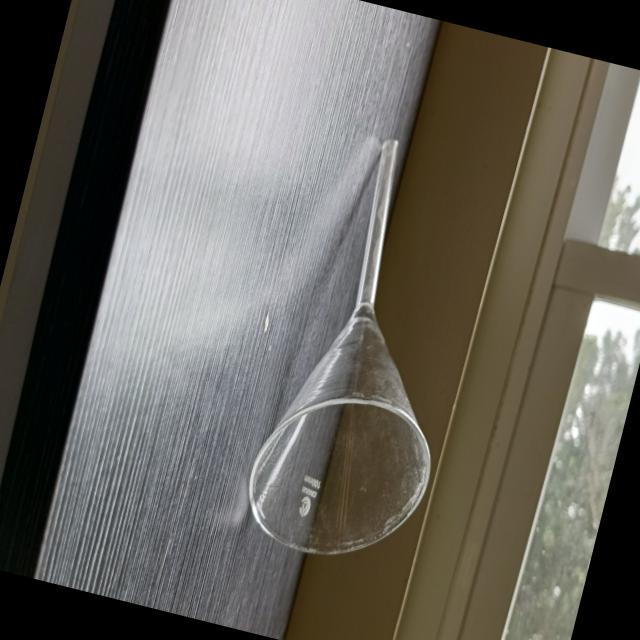funnel: (219, 100, 529, 610)
